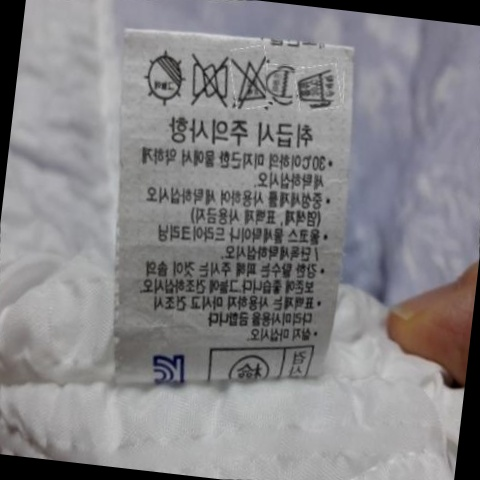DN_wring: (183, 52, 232, 107)
dry_clean: (265, 64, 299, 101)
hand_wash: (293, 61, 341, 108)
non_chlorine_bleach: (230, 53, 271, 107)
shade_dry: (138, 48, 189, 109)
